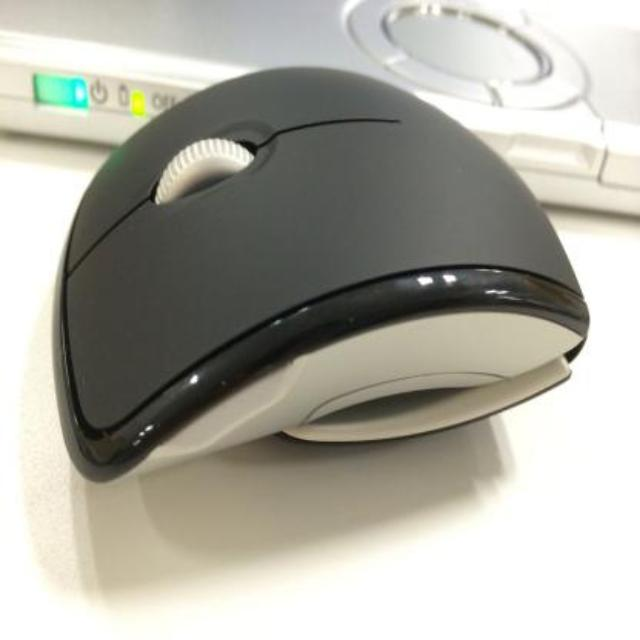Computer-Mouse: (45, 54, 600, 476)
